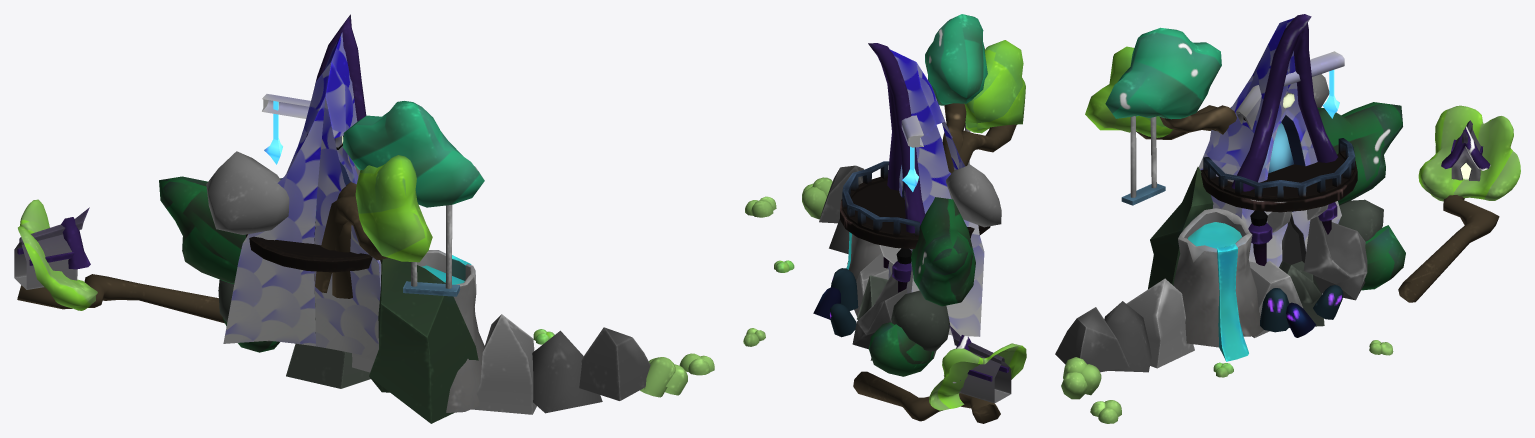
Rendered from base_garden.fbx.
3 renders of one model, left to right at view 1: azimuth 30°, elevation 25°; view 2: azimuth 150°, elevation 25°; view 3: azimuth 270°, elevation 25°, orthographic. The views are drawn at different scales.
Parts seen in each view (by area): view 1: base_garden; view 2: base_garden; view 3: base_garden.
Part boxes in pixels (x1=…): base_garden: x1=14, y1=14, x2=714, y2=423; base_garden: x1=743, y1=14, x2=1026, y2=423; base_garden: x1=1055, y1=14, x2=1520, y2=423.
Size of the model in its own units: 4781 by 3189 by 4286.
1 material, 1 textured.
